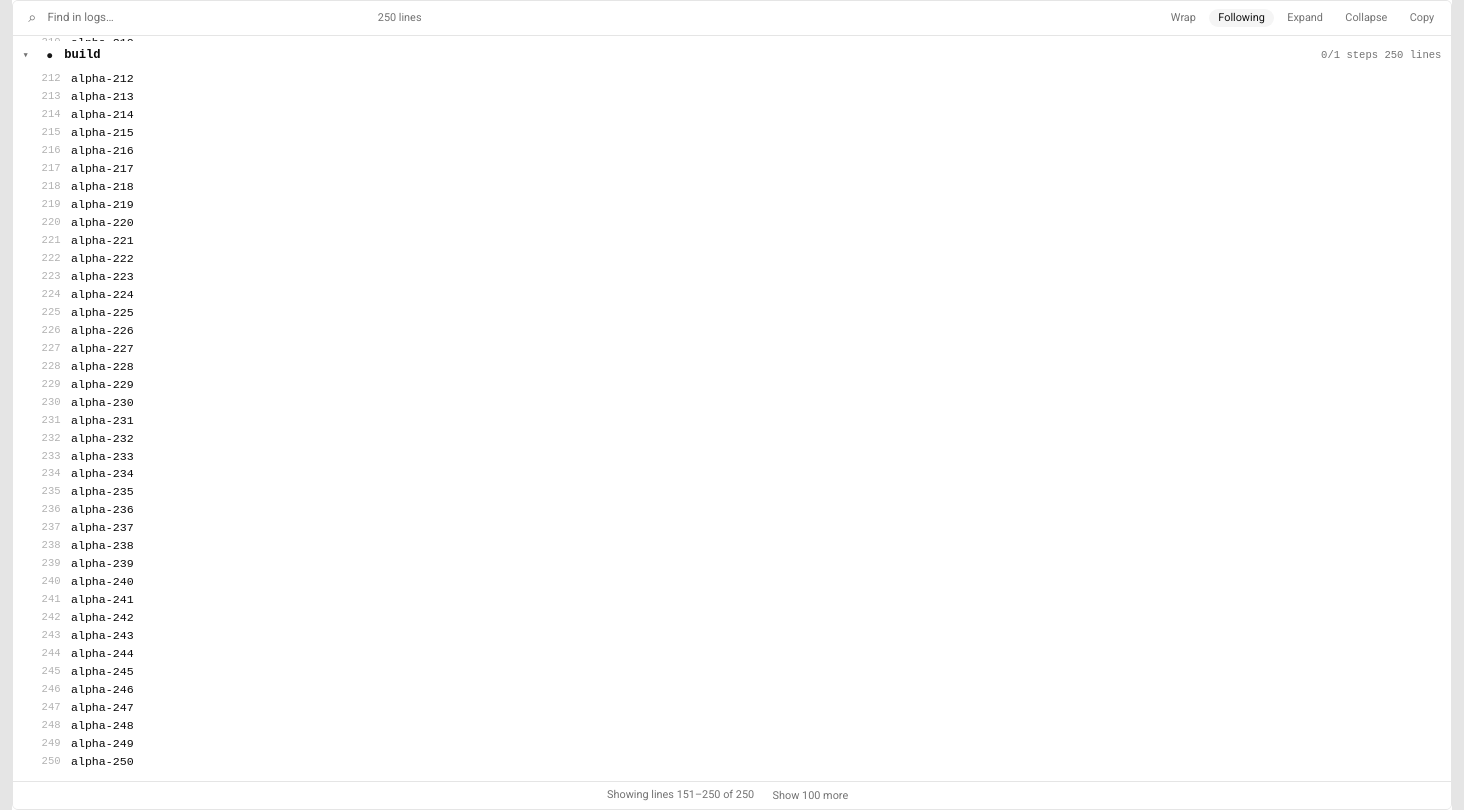
WorkflowLogViewer › resets to the first search result
(page scrolled)
Type "alpha" into the search field named "Search logs".
click(197, 18); type("alpha")  # box [21, 7, 373, 29]
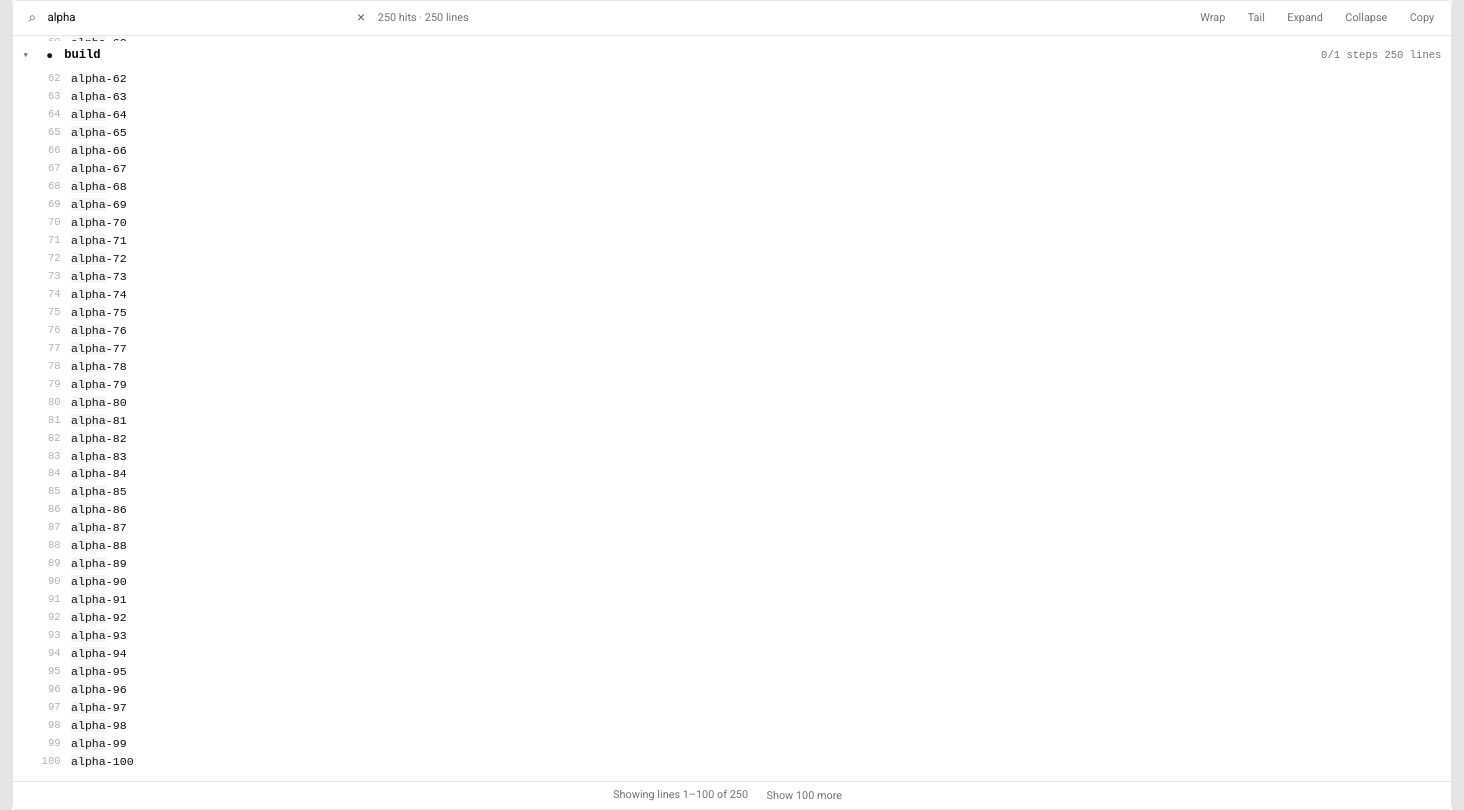
Expected: the element showing "alpha-100" is shown, [71, 755, 134, 768]
Expected: the text with class "log-count" shows "250 hits", [378, 11, 469, 24]
